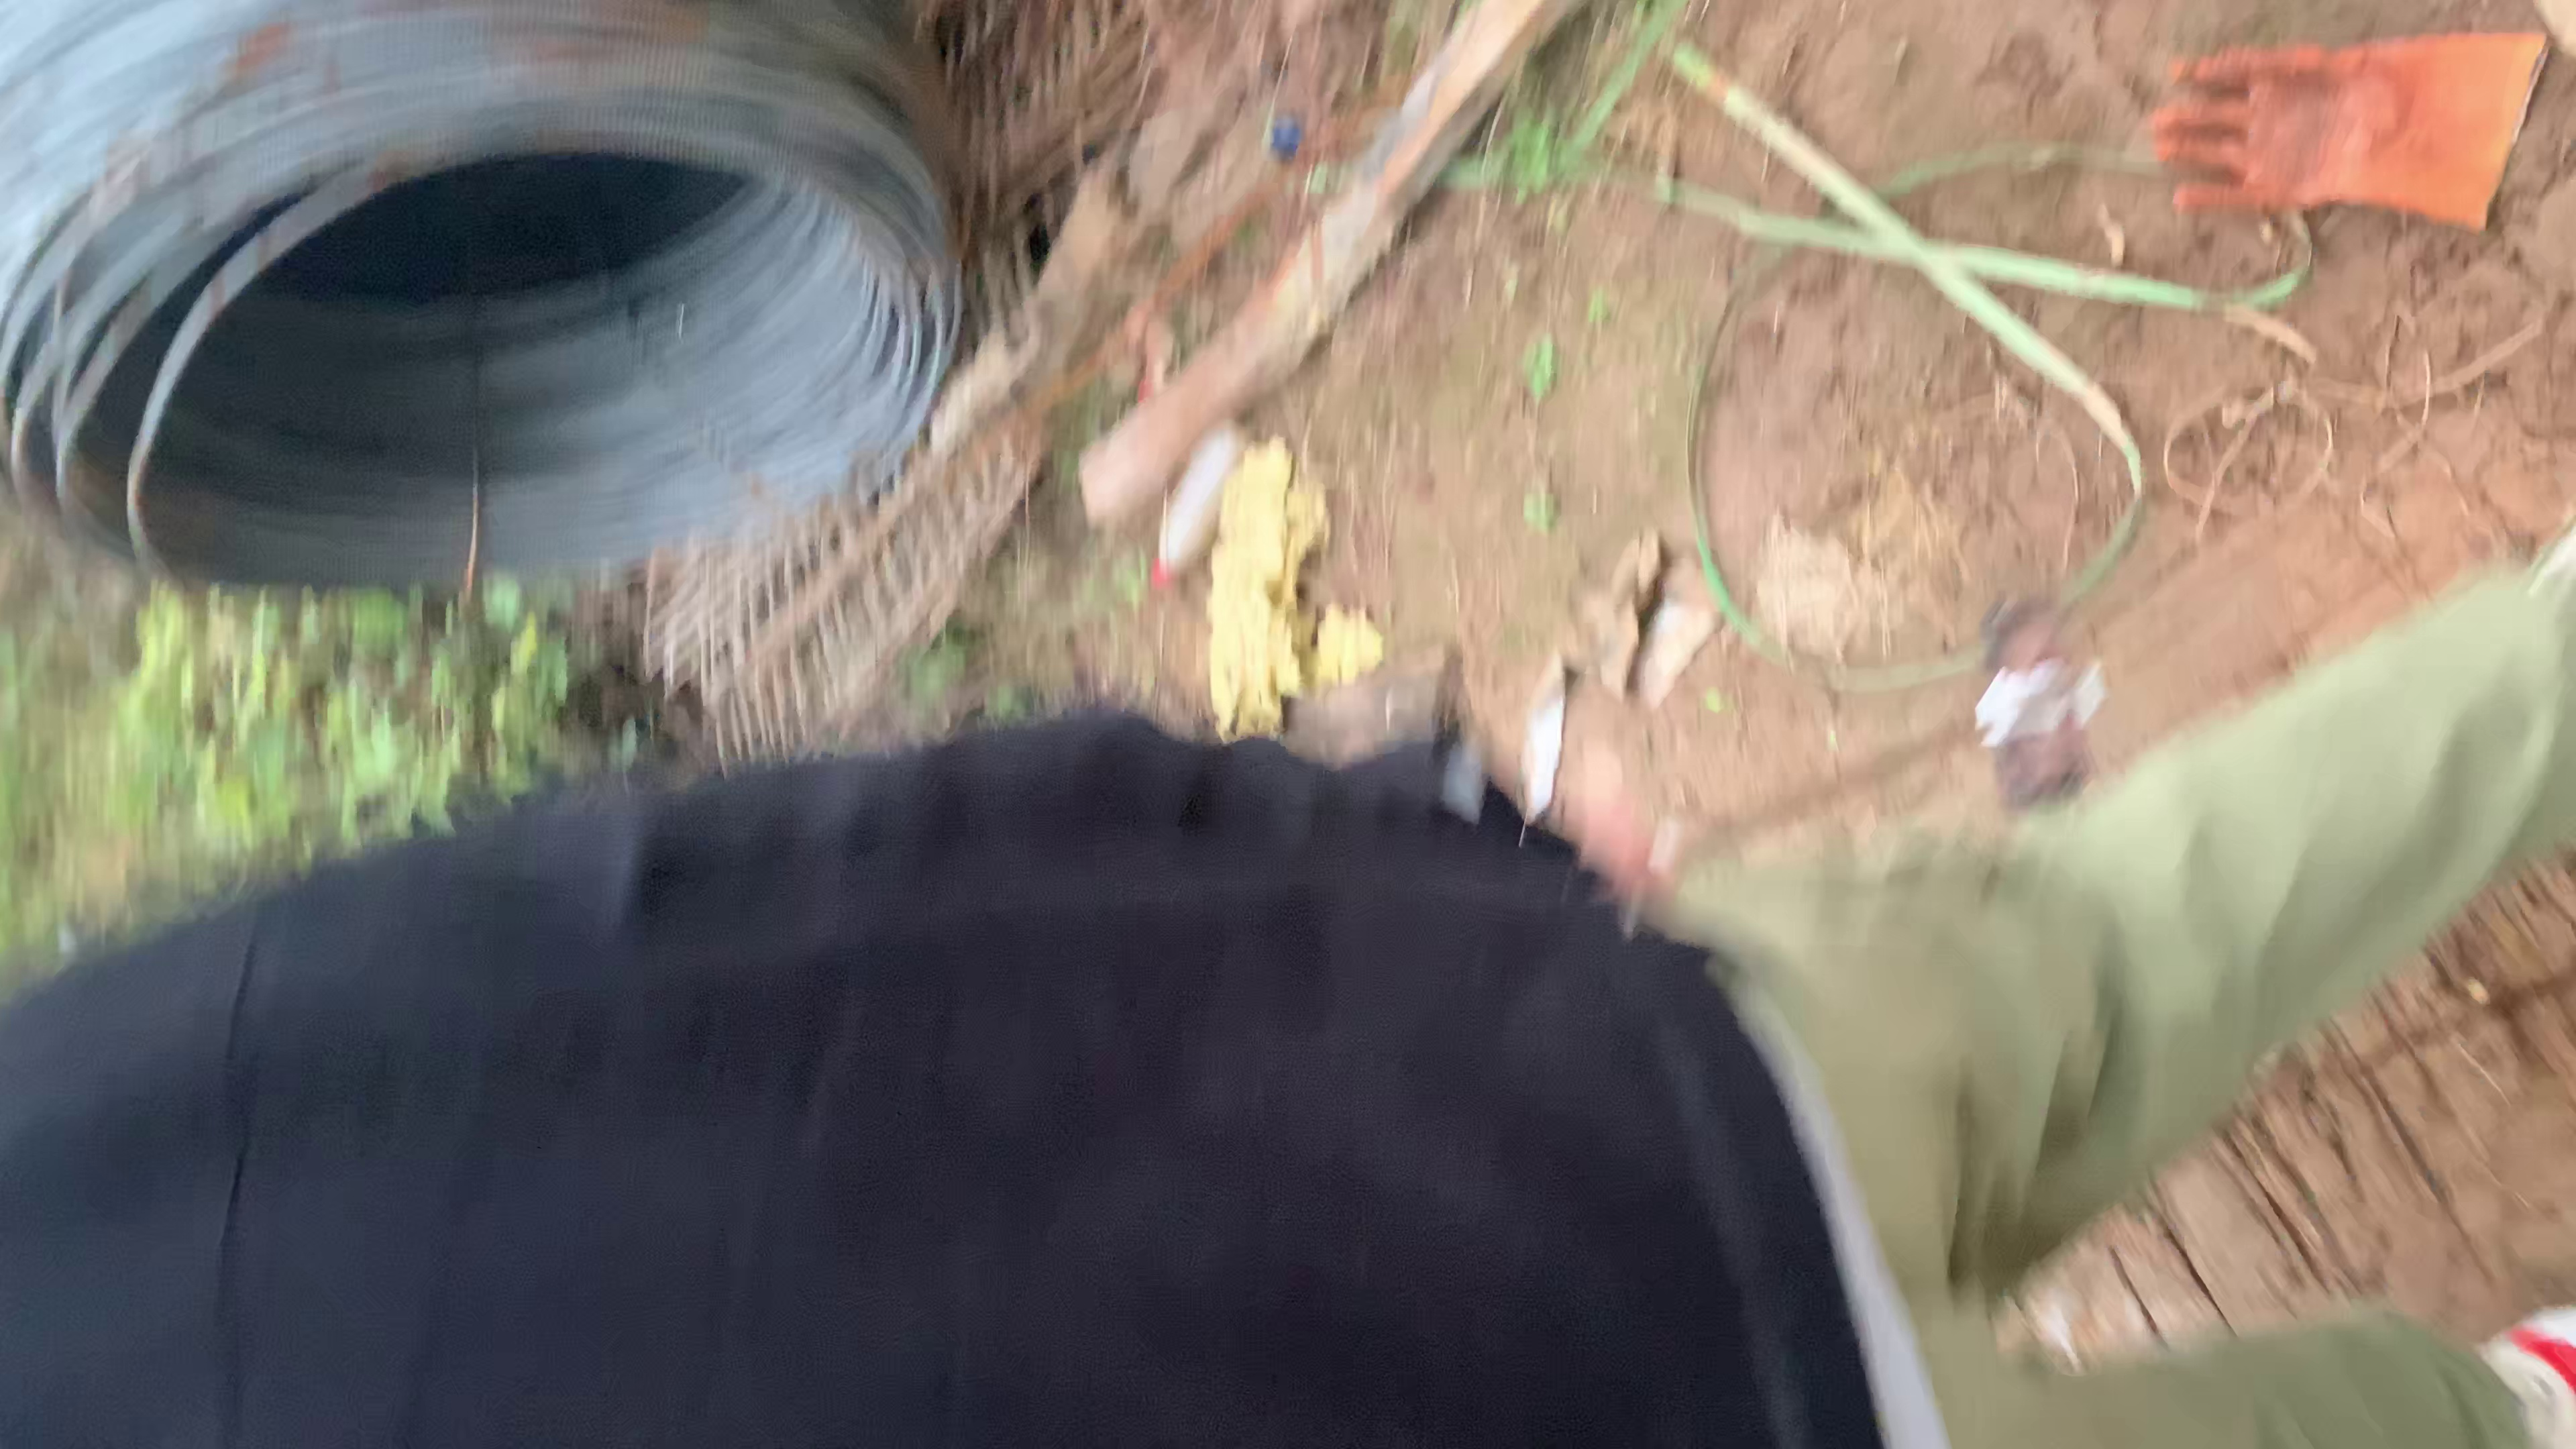coil: (14, 111, 941, 584)
